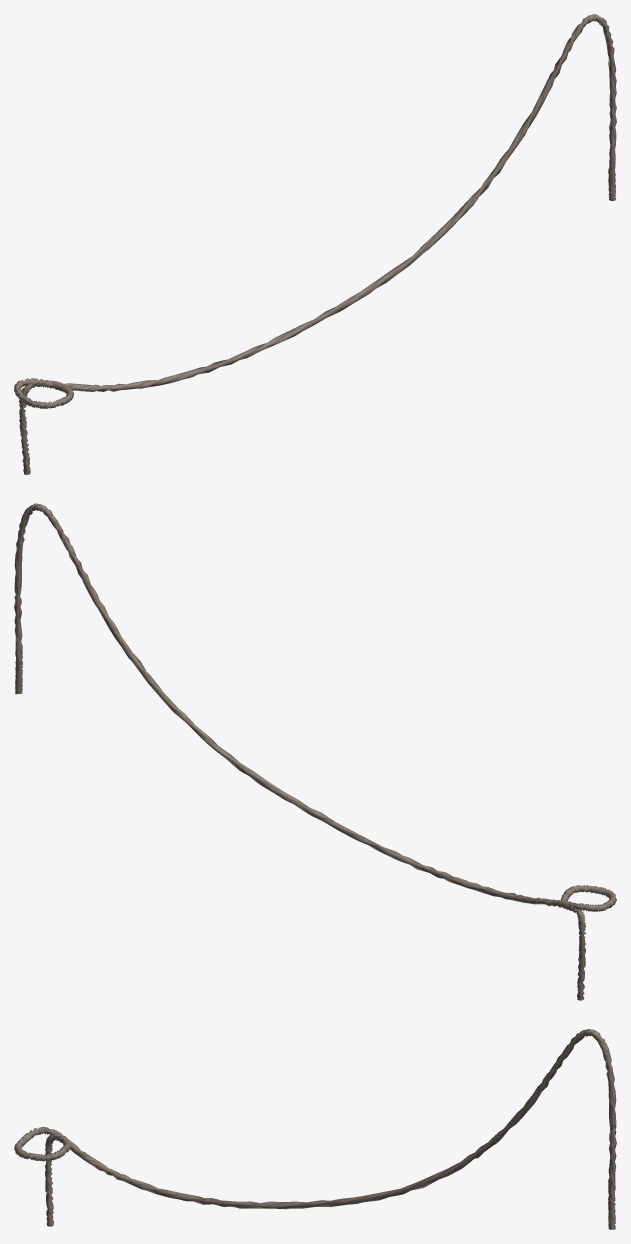
The model's file is SM_RopeSplineMesh_Splines_30.fbx.
3 views of the same model, one above another, from view 1: azimuth 30°, elevation 25°; view 2: azimuth 150°, elevation 25°; view 3: azimuth 330°, elevation 25° (orthographic). The views are drawn at different scales.
Visible parts, largest first — view 1: SM_RopeSplineMesh_Splines_30; view 2: SM_RopeSplineMesh_Splines_30; view 3: SM_RopeSplineMesh_Splines_30.
Boxes of the visible parts, box(x1,y1,x2,y2) form: SM_RopeSplineMesh_Splines_30: box(14, 14, 616, 474); SM_RopeSplineMesh_Splines_30: box(14, 503, 616, 1000); SM_RopeSplineMesh_Splines_30: box(14, 1029, 616, 1229).
Bounding box in the file's own units: 224 × 19.45 × 123.
